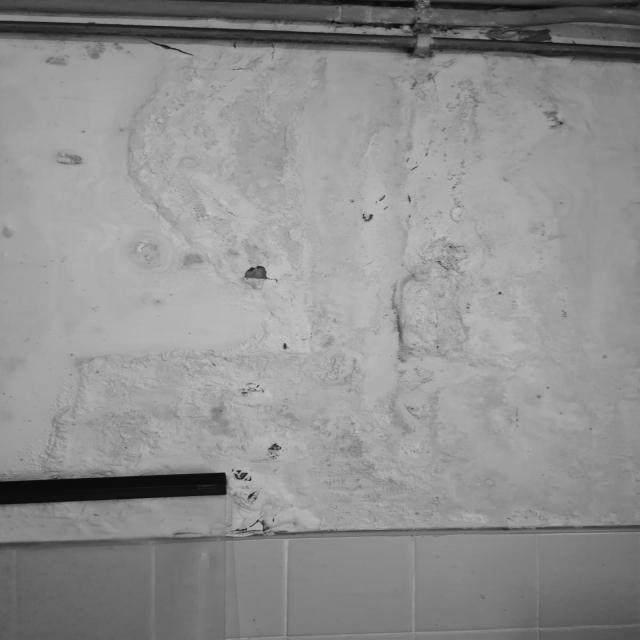stain marks: (119, 33, 640, 217), (39, 350, 640, 482), (167, 218, 640, 348), (227, 486, 640, 539), (14, 503, 192, 538), (26, 28, 130, 78), (112, 232, 170, 313), (2, 352, 28, 432), (44, 142, 100, 178), (1, 214, 15, 256)
